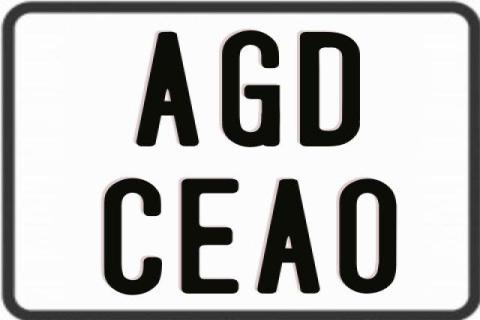0: (337, 177, 399, 297)
A: (256, 177, 324, 291), (134, 31, 198, 151)
C: (104, 178, 162, 300)
D: (300, 32, 366, 150)
E: (179, 178, 240, 296)
G: (221, 29, 280, 145)
